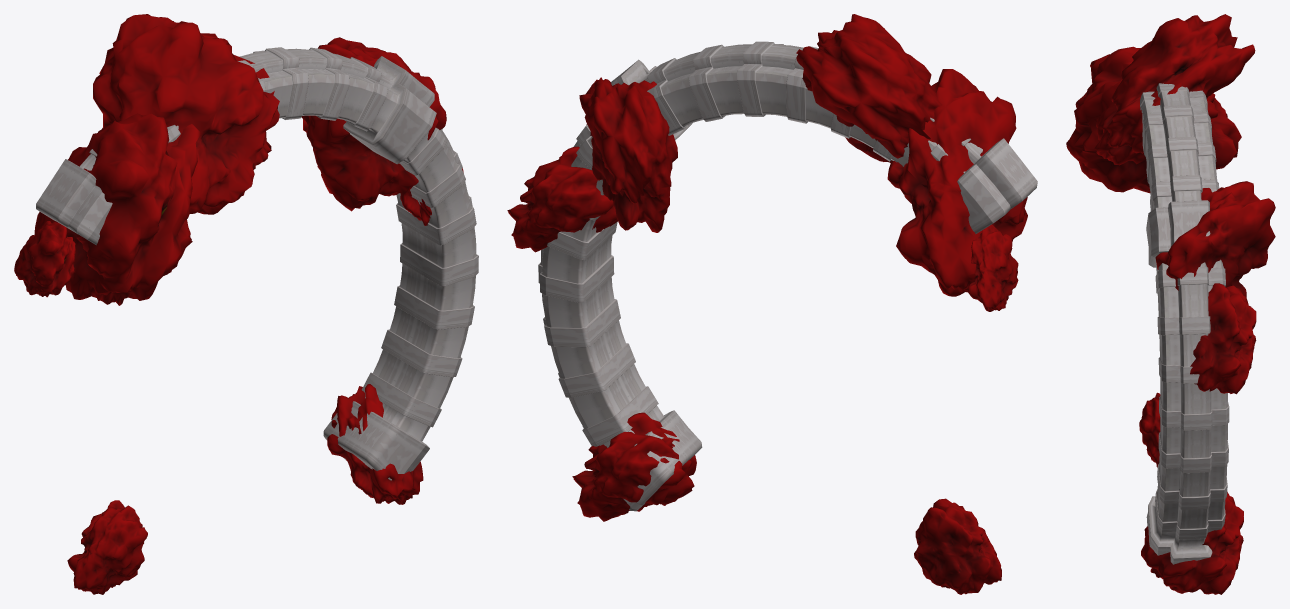
File: GSRuinedRing.fbx
3 renders of one model, left to right at view 1: azimuth 30°, elevation 25°; view 2: azimuth 150°, elevation 25°; view 3: azimuth 270°, elevation 25°, orthographic. The views are drawn at different scales.
Parts seen in each view (by area): view 1: GoldNuggetNestedInRings (×6), GSRuinedRing; view 2: GoldNuggetNestedInRings (×7), GSRuinedRing; view 3: GoldNuggetNestedInRings (×6), GSRuinedRing.
Boxes of the visible parts, left/top/right/bottom form: GoldNuggetNestedInRings (×6): left=14, top=14, right=446, bottom=594; GSRuinedRing: left=36, top=47, right=478, bottom=480; GoldNuggetNestedInRings (×7): left=507, top=14, right=1027, bottom=594; GSRuinedRing: left=538, top=41, right=1037, bottom=511; GoldNuggetNestedInRings (×6): left=1066, top=14, right=1275, bottom=594; GSRuinedRing: left=1140, top=83, right=1229, bottom=564.
Bounding box in the file's own units: 30.67 × 34.5 × 13.52.
2 materials, 1 textured.
